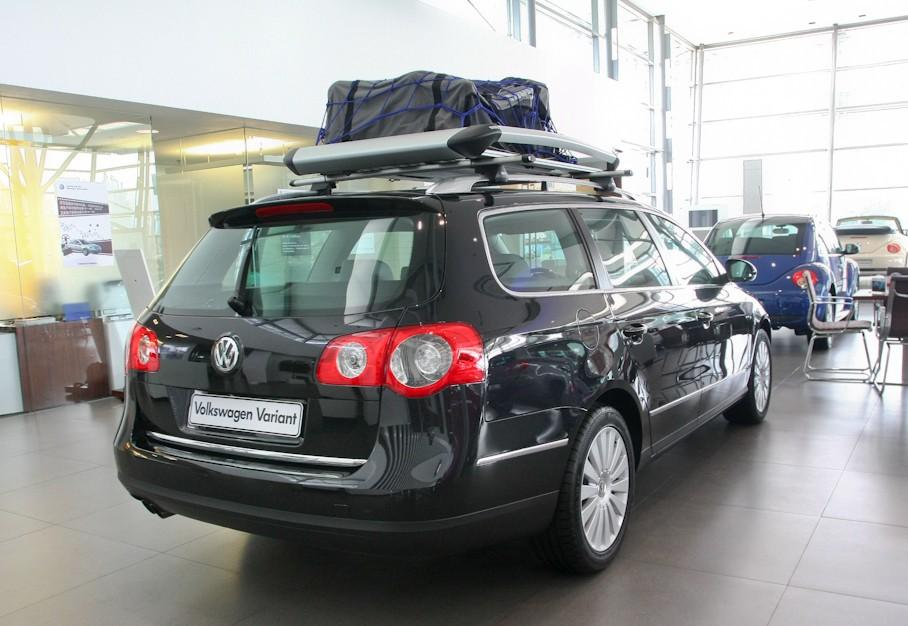Wagon: (113, 189, 775, 577)
